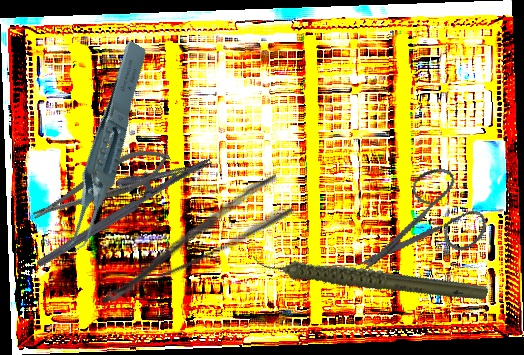Dressing Forceps: (84, 172, 296, 310)
Handpiece: (250, 203, 490, 348)
Iris Scissors: (351, 151, 500, 309)
Needle Holder: (21, 132, 214, 270), (26, 138, 176, 232)
Tissue Forceps: (16, 39, 188, 260)
